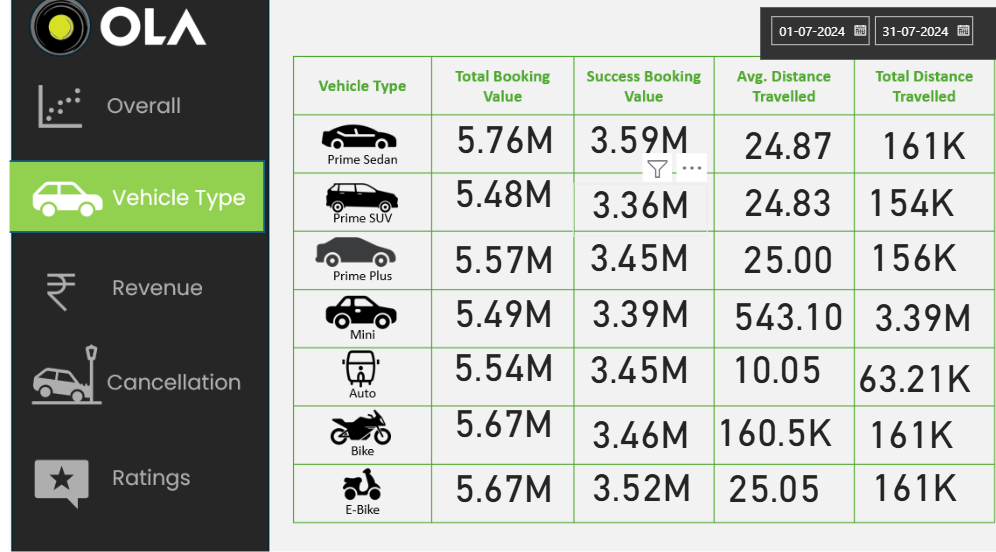

Layout of this report page (visuals, bound fields, positions):
{"tool":"powerbi","page":{"name":"vehicle type","canvas":[1280,720],"ordinal":1},"visuals":[{"type":"actionButton","box":[61.7,211.3,295,104.3],"z":0},{"type":"actionButton","box":[63.1,323.8,295,104.3],"z":1000},{"type":"actionButton","box":[54.9,430.9,295,104.3],"z":2000},{"type":"actionButton","box":[60.4,558.5,295,104.3],"z":3000},{"type":"actionButton","box":[63.1,216.8,295,100.2],"z":4000},{"type":"actionButton","box":[63.1,129,292.3,68.6],"z":5000},{"type":"card","fields":{"Values":["Sum(July (2).Booking_Value)"]},"box":[551.6,179.8,155.1,61.7],"z":6000},{"type":"card","fields":{"Values":["Sum(July (2).Booking_Value)"]},"box":[550.3,241.5,155.1,61.7],"z":7000},{"type":"card","fields":{"Values":["Sum(July (2).Booking_Value)"]},"box":[550.3,317,155.1,61.7],"z":8000},{"type":"card","fields":{"Values":["Sum(July (2).Booking_Value)"]},"box":[550.3,378.7,155.1,61.7],"z":9000},{"type":"card","fields":{"Values":["Sum(July (2).Booking_Value)"]},"box":[550.3,440.5,155.1,61.7],"z":10000},{"type":"card","fields":{"Values":["Sum(July (2).Booking_Value)"]},"box":[550.3,505,155.1,61.7],"z":11000},{"type":"card","fields":{"Values":["Sum(July (2).Booking_Value)"]},"box":[550.3,579.1,155.1,61.7],"z":12000},{"type":"card","fields":{"Values":["Sum(July (2).Booking_Value)"]},"box":[705.3,179.8,155.1,61.7],"z":13000},{"type":"card","fields":{"Values":["Sum(July (2).Booking_Value)"]},"box":[706.7,253.9,155.1,61.7],"z":14000},{"type":"card","fields":{"Values":["Sum(July (2).Booking_Value)"]},"box":[705.3,314.2,155.1,61.7],"z":15000},{"type":"card","fields":{"Values":["Sum(July (2).Booking_Value)"]},"box":[706.7,378.7,155.1,61.7],"z":16000},{"type":"card","fields":{"Values":["Sum(July (2).Booking_Value)"]},"box":[705.3,443.2,155.1,61.7],"z":17000},{"type":"card","fields":{"Values":["Sum(July (2).Booking_Value)"]},"box":[706.7,517.3,155.1,61.7],"z":18000},{"type":"card","fields":{"Values":["Sum(July (2).Booking_Value)"]},"box":[708.1,577.7,155.1,61.7],"z":19000},{"type":"card","fields":{"Values":["Avg(July (2).Ride_Distance)"]},"box":[875.5,163.3,155.1,87.8],"z":20000},{"type":"card","fields":{"Values":["Avg(July (2).Ride_Distance)"]},"box":[875.5,251.1,155.1,61.7],"z":21000},{"type":"card","fields":{"Values":["Avg(July (2).Ride_Distance)"]},"box":[875.5,317,155.1,61.7],"z":22000},{"type":"card","fields":{"Values":["Avg(July (2).Booking_Value)"]},"box":[875.5,381.5,155.1,61.7],"z":23000},{"type":"card","fields":{"Values":["Avg(July (2).Ride_Distance)"]},"box":[863.1,443.2,155.1,61.7],"z":24000},{"type":"card","fields":{"Values":["Sum(July (2).Ride_Distance)"]},"box":[860.4,514.6,155.1,61.7],"z":25000},{"type":"card","fields":{"Values":["Avg(July (2).Ride_Distance)"]},"box":[860.4,579.1,155.1,61.7],"z":26000},{"type":"card","fields":{"Values":["Sum(July (2).Ride_Distance)"]},"box":[1030.5,163.3,155.1,87.8],"z":27000},{"type":"card","fields":{"Values":["Sum(July (2).Ride_Distance)"]},"box":[1015.4,251.1,155.1,61.7],"z":28000},{"type":"card","fields":{"Values":["Sum(July (2).Ride_Distance)"]},"box":[1018.2,314.2,155.1,61.7],"z":29000},{"type":"card","fields":{"Values":["Sum(July (2).Booking_Value)"]},"box":[1030.5,382.8,155.1,61.7],"z":30000},{"type":"card","fields":{"Values":["Sum(July (2).Ride_Distance)"]},"box":[1019.6,452.8,155.1,61.7],"z":31000},{"type":"card","fields":{"Values":["Sum(July (2).Ride_Distance)"]},"box":[1015.4,517.3,155.1,61.7],"z":32000},{"type":"card","fields":{"Values":["Sum(July (2).Ride_Distance)"]},"box":[1019.6,577.7,155.1,61.7],"z":33000},{"type":"slicer","title":"Date","fields":{"Values":["July (2).Date"]},"box":[922.1,52.1,275.8,60.4],"z":34000}]}

Visuals, with their boxes on the page's 1280x720 design canvas (x1, y1, x2, y2). These are canvas units, not pixel positions in the 996x552 screenshot, which may show the page scaled, cropped or inside an application window:
actionButton: left=62, top=211, right=357, bottom=316
actionButton: left=63, top=324, right=358, bottom=428
actionButton: left=55, top=431, right=350, bottom=535
actionButton: left=60, top=558, right=355, bottom=663
actionButton: left=63, top=217, right=358, bottom=317
actionButton: left=63, top=129, right=355, bottom=198
card - Sum(July (2).Booking_Value): left=552, top=180, right=707, bottom=242
card - Sum(July (2).Booking_Value): left=550, top=242, right=705, bottom=303
card - Sum(July (2).Booking_Value): left=550, top=317, right=705, bottom=379
card - Sum(July (2).Booking_Value): left=550, top=379, right=705, bottom=440
card - Sum(July (2).Booking_Value): left=550, top=440, right=705, bottom=502
card - Sum(July (2).Booking_Value): left=550, top=505, right=705, bottom=567
card - Sum(July (2).Booking_Value): left=550, top=579, right=705, bottom=641
card - Sum(July (2).Booking_Value): left=705, top=180, right=860, bottom=242
card - Sum(July (2).Booking_Value): left=707, top=254, right=862, bottom=316
card - Sum(July (2).Booking_Value): left=705, top=314, right=860, bottom=376
card - Sum(July (2).Booking_Value): left=707, top=379, right=862, bottom=440
card - Sum(July (2).Booking_Value): left=705, top=443, right=860, bottom=505
card - Sum(July (2).Booking_Value): left=707, top=517, right=862, bottom=579
card - Sum(July (2).Booking_Value): left=708, top=578, right=863, bottom=639
card - Avg(July (2).Ride_Distance): left=876, top=163, right=1031, bottom=251
card - Avg(July (2).Ride_Distance): left=876, top=251, right=1031, bottom=313
card - Avg(July (2).Ride_Distance): left=876, top=317, right=1031, bottom=379
card - Avg(July (2).Booking_Value): left=876, top=382, right=1031, bottom=443
card - Avg(July (2).Ride_Distance): left=863, top=443, right=1018, bottom=505
card - Sum(July (2).Ride_Distance): left=860, top=515, right=1016, bottom=576
card - Avg(July (2).Ride_Distance): left=860, top=579, right=1016, bottom=641
card - Sum(July (2).Ride_Distance): left=1030, top=163, right=1186, bottom=251
card - Sum(July (2).Ride_Distance): left=1015, top=251, right=1170, bottom=313
card - Sum(July (2).Ride_Distance): left=1018, top=314, right=1173, bottom=376
card - Sum(July (2).Booking_Value): left=1030, top=383, right=1186, bottom=444
card - Sum(July (2).Ride_Distance): left=1020, top=453, right=1175, bottom=514
card - Sum(July (2).Ride_Distance): left=1015, top=517, right=1170, bottom=579
card - Sum(July (2).Ride_Distance): left=1020, top=578, right=1175, bottom=639
"Date" slicer: left=922, top=52, right=1198, bottom=112
